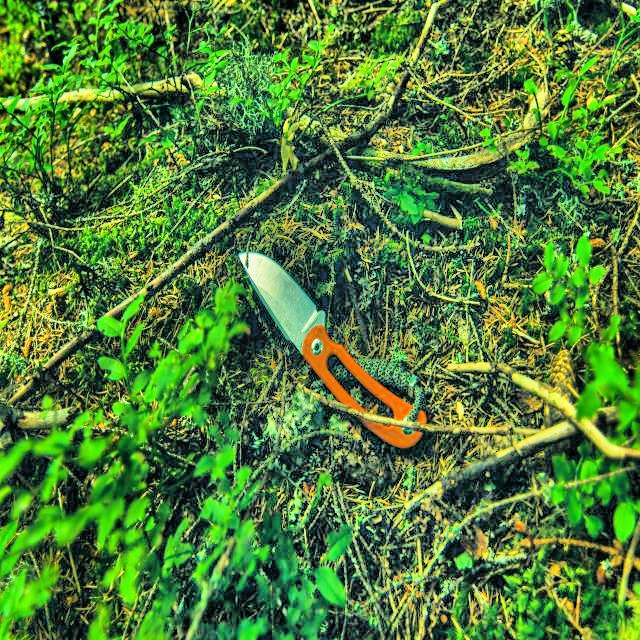knife: (236, 245, 432, 446)
